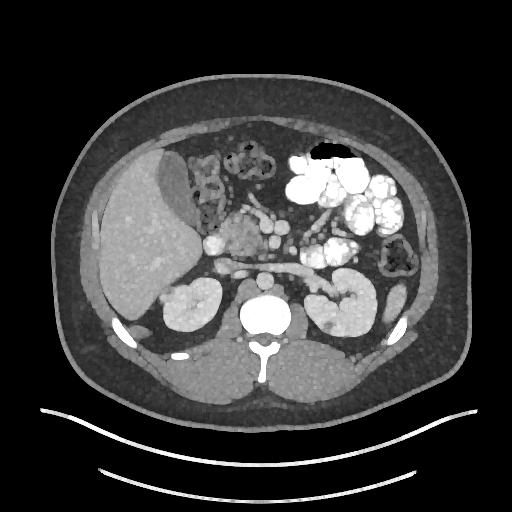Lesion: (319, 316, 339, 335)
